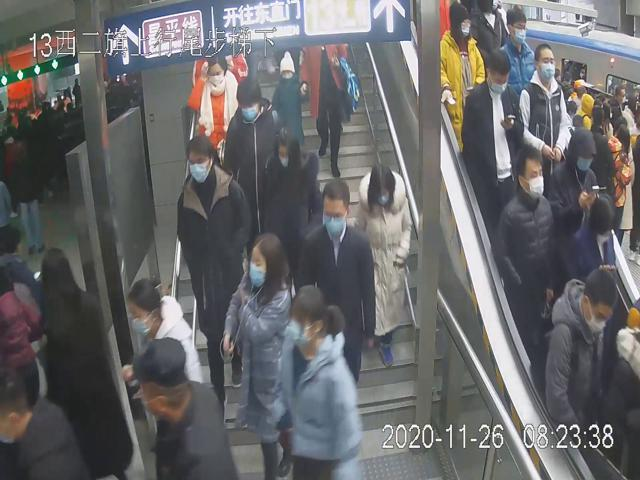person: (174, 131, 253, 416), (222, 233, 296, 480), (275, 280, 360, 480), (297, 178, 375, 383), (350, 162, 415, 371), (544, 266, 619, 443), (493, 146, 557, 350), (462, 49, 525, 220), (255, 132, 321, 262), (224, 73, 282, 202), (520, 43, 569, 177), (187, 51, 240, 154), (270, 45, 306, 145)
